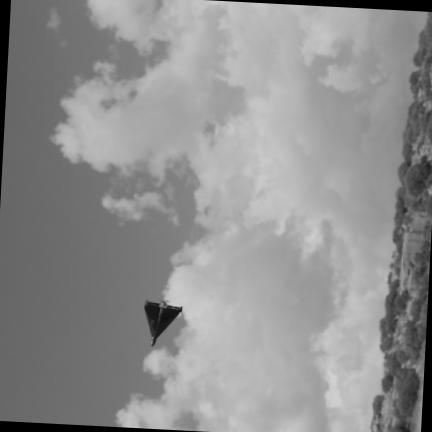Shahed: (144, 300, 182, 345)
